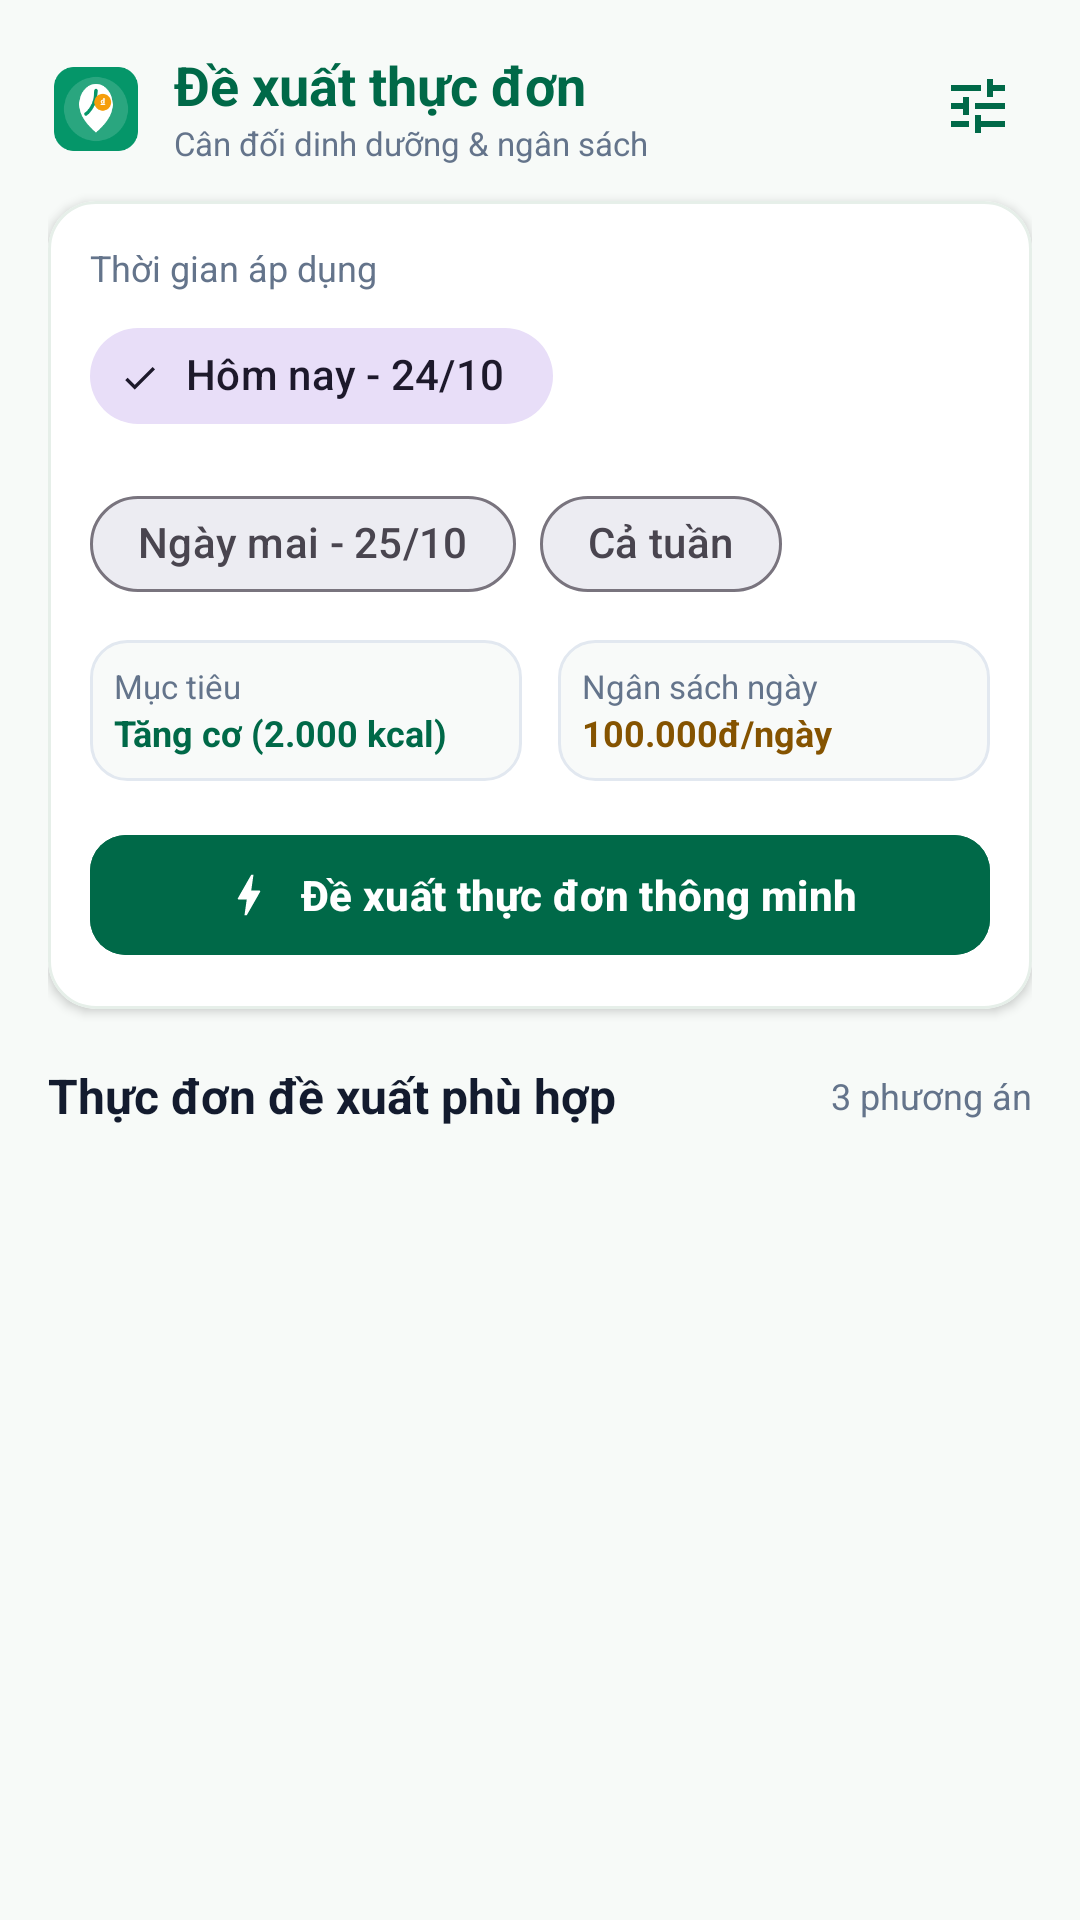

Point at icon controls on the screen. Image size 1080*1920, points as (x,y).
Bộ lọc: (978,106)
